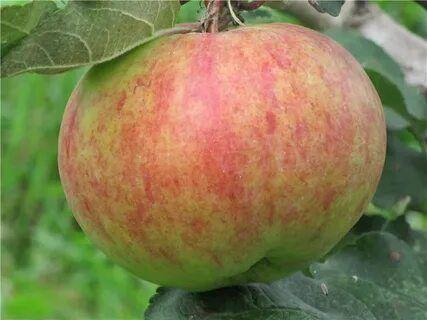Apple: (59, 23, 386, 292)
